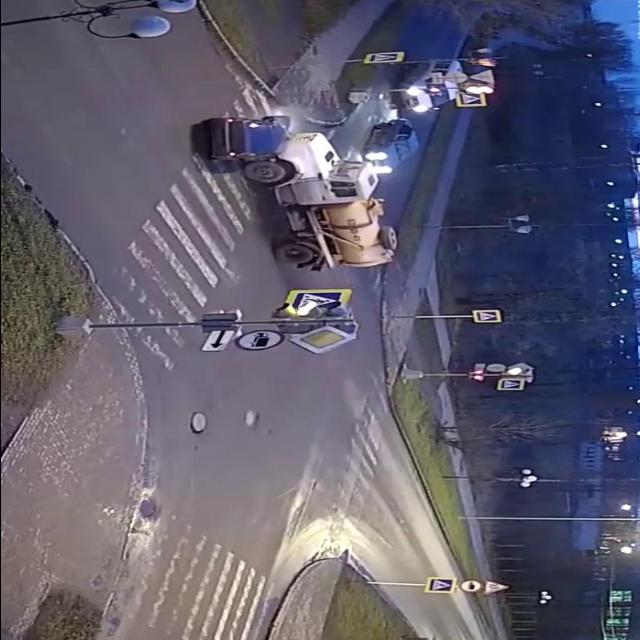accident: (175, 101, 407, 276)
